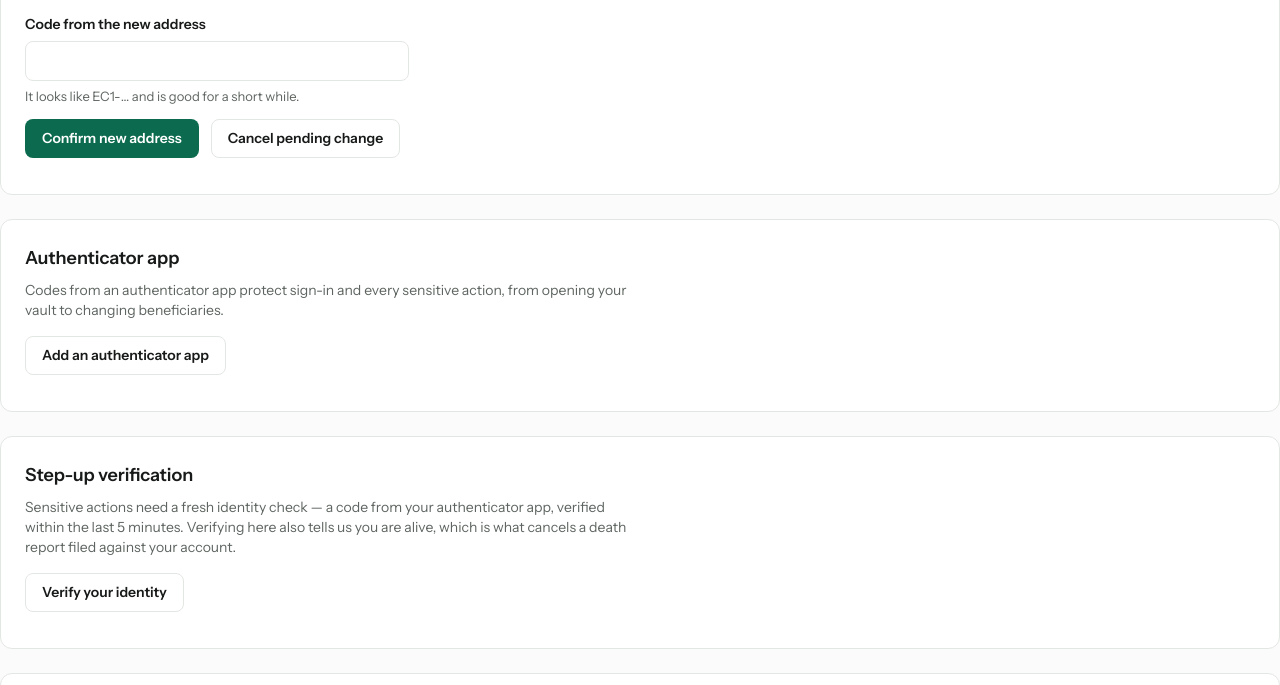
Test case: SecurityPanel › tells an enrolling user their CODE was refused, not their password
This screenshot has width=1280, height=685.
(page scrolled)
Click the button "Add an authenticator app" at [126, 355], box [25, 336, 226, 374]
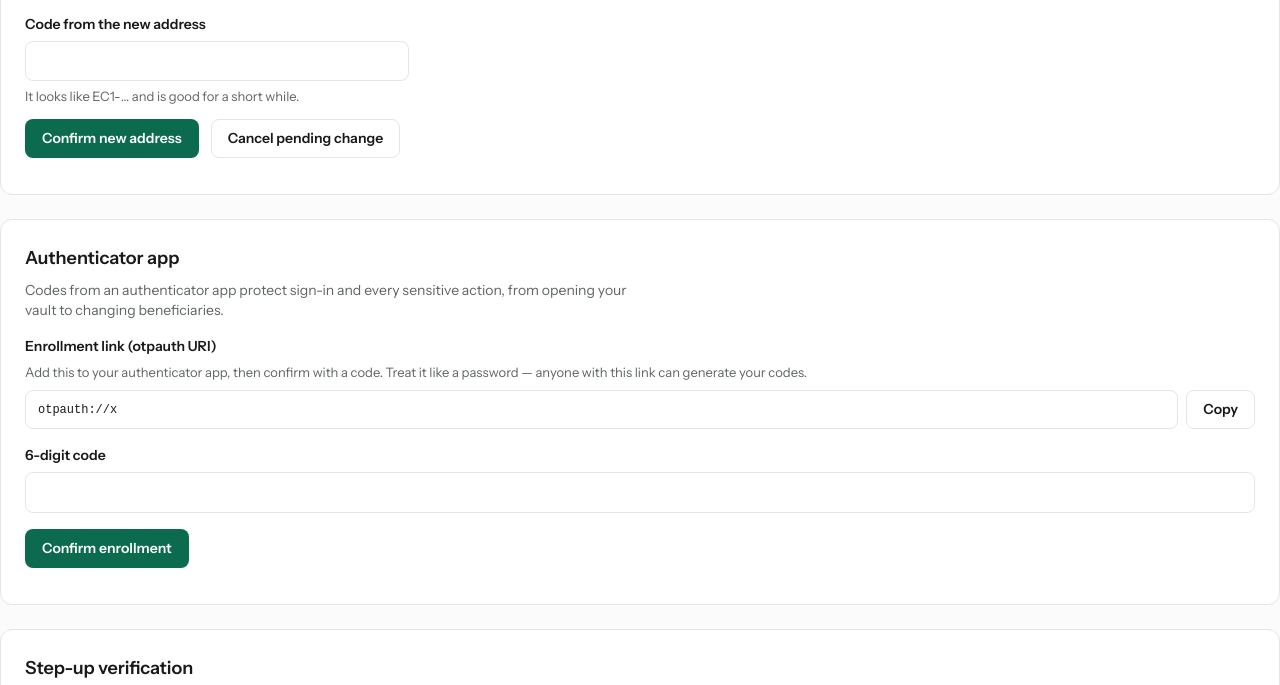
Type "123456" into the field labelled "6-digit code" at [640, 492], box [25, 472, 1255, 512]
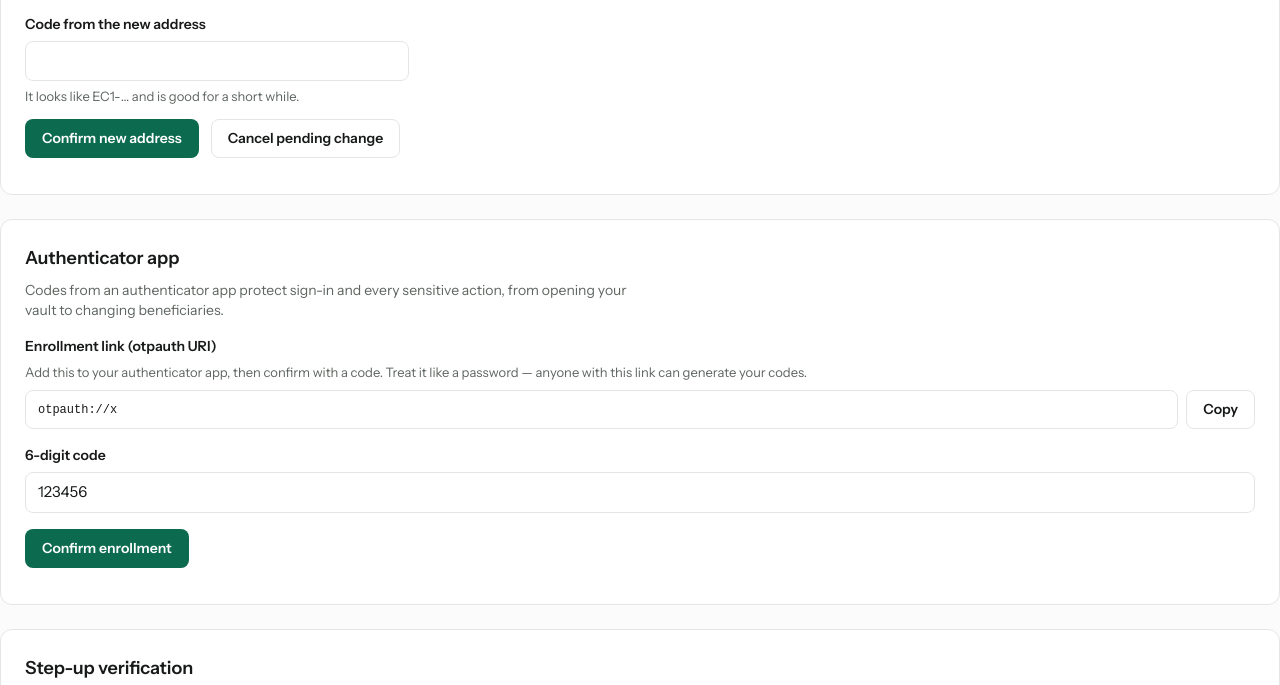
Click the button "Confirm enrollment" at [107, 548], box [25, 528, 189, 568]
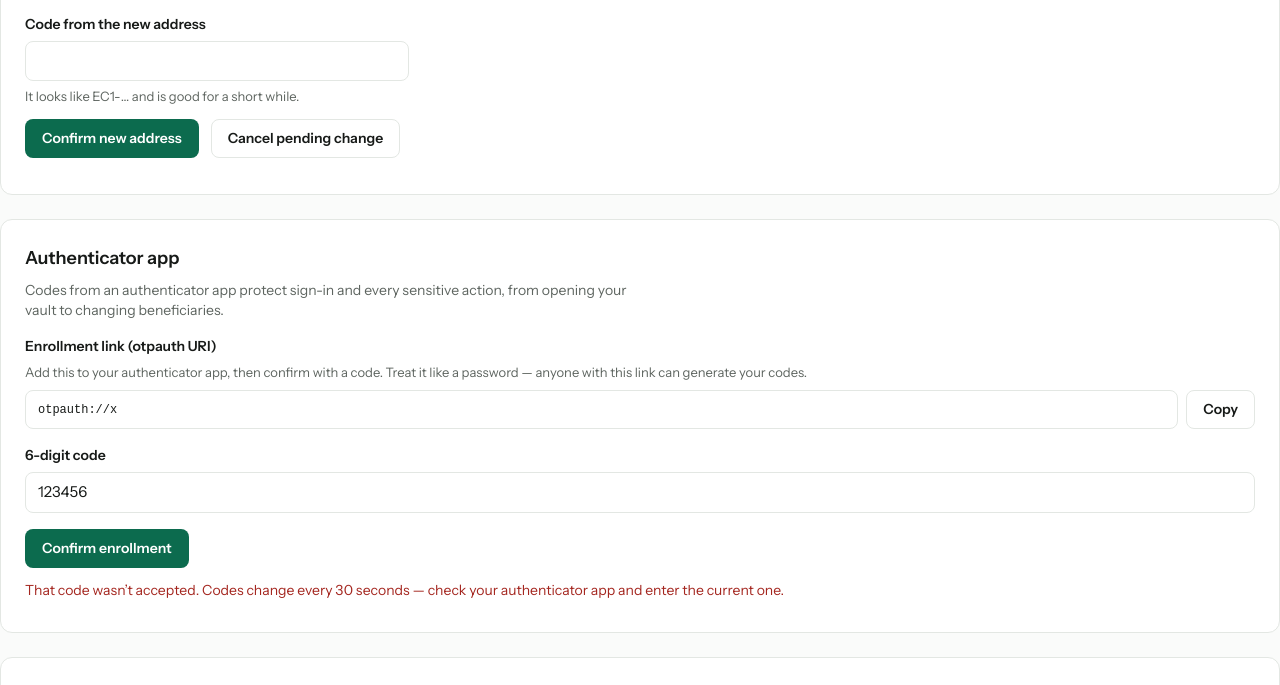
expect the text "That code wasn’t accepted. Codes change every 30 seconds — check your authenticator app and enter the current one." is shown: met, box [25, 580, 784, 598]
